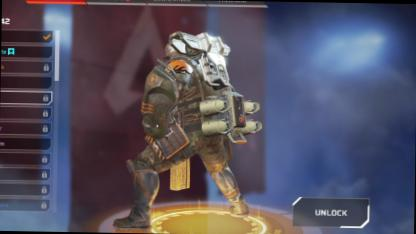Target: (130, 30, 254, 190)
